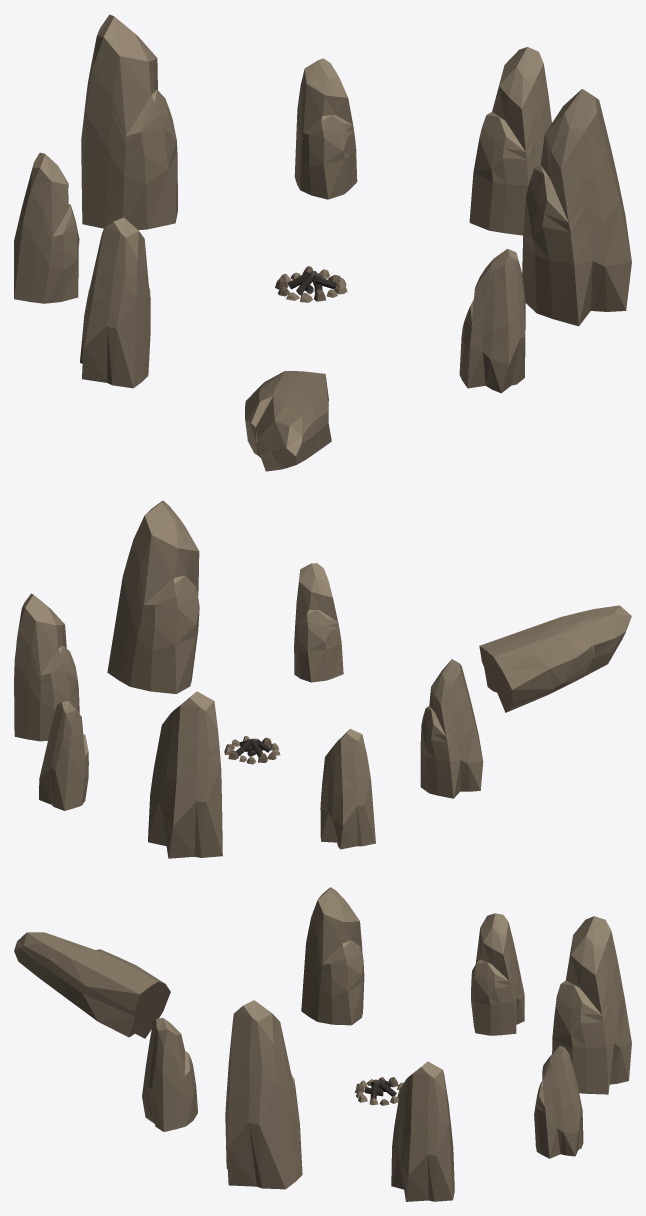
File: LmStones.glb
The picture shows the model from 3 angles, top to bottom: view 1: azimuth 30°, elevation 25°; view 2: azimuth 150°, elevation 25°; view 3: azimuth 270°, elevation 25°; orthographic projection. The views are drawn at different scales.
Parts seen in each view (by area): view 1: LmStones; view 2: LmStones; view 3: LmStones.
Boxes of the visible parts, x1=… form: LmStones: x1=14, y1=14, x2=631, y2=471; LmStones: x1=14, y1=500, x2=631, y2=858; LmStones: x1=14, y1=887, x2=631, y2=1201.
Size of the model in its own units: 18.23 by 7.52 by 23.21.
